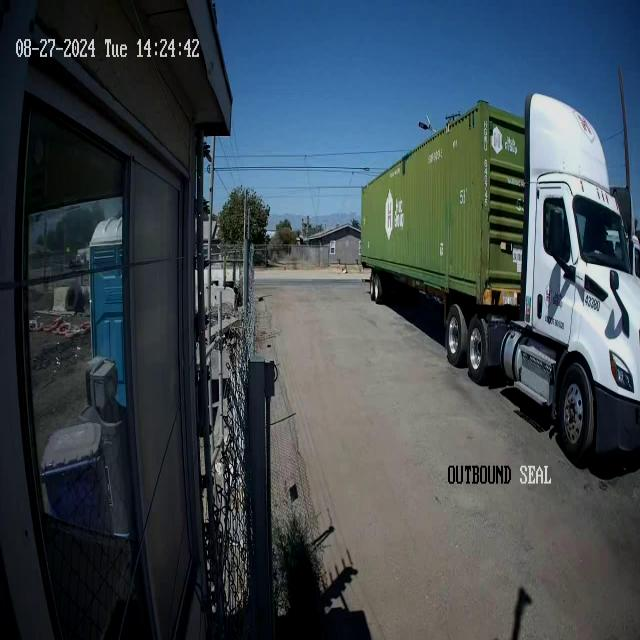TRUCK_CONTAINER: (359, 85, 639, 468)
